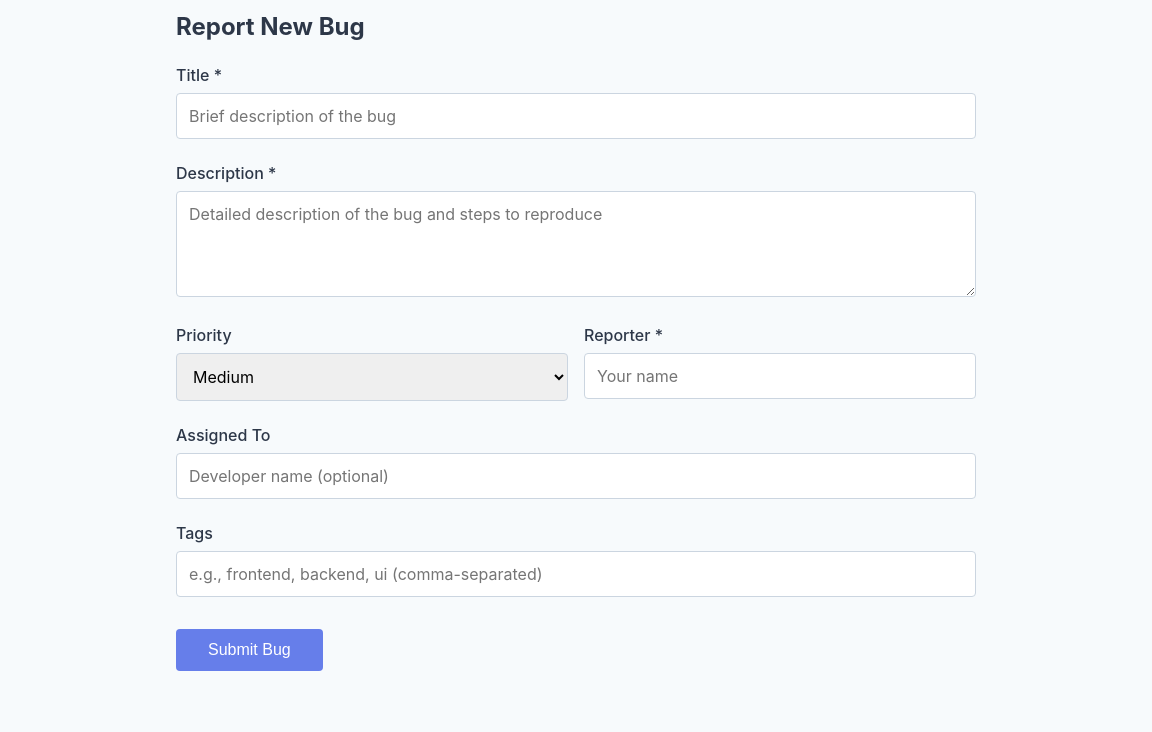
Test: BugForm Component › shows validation errors for required fields
This screenshot has width=1152, height=732.
Click the button "Submit Bug".
click(249, 650)  # box [176, 629, 323, 671]
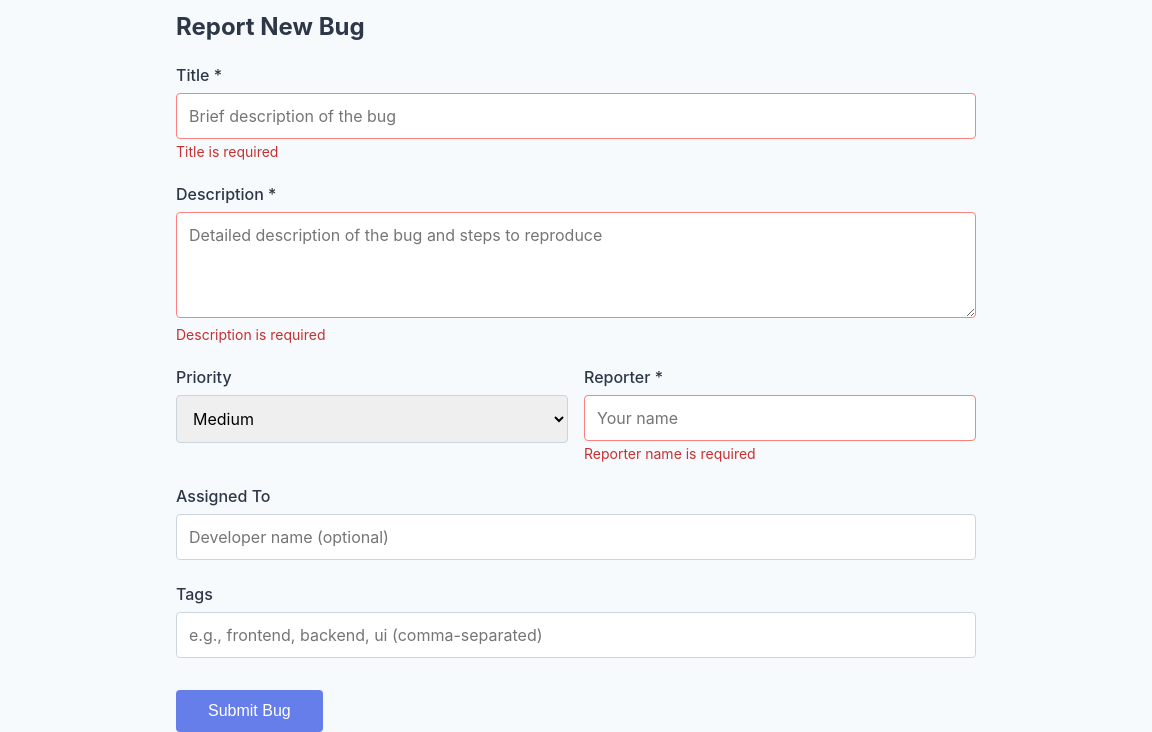
Expected: the text "Title is required" is shown, [176, 143, 278, 160]
Expected: the text "Description is required" is shown, [176, 326, 326, 343]
Expected: the text "Reporter name is required" is shown, [584, 445, 756, 462]
